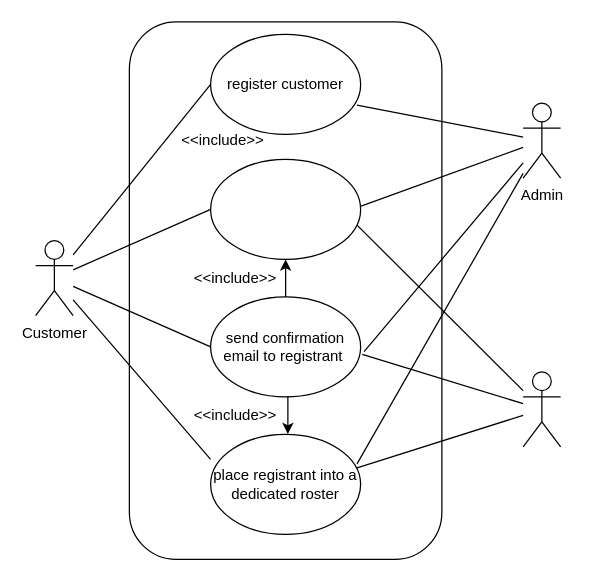
Image size: 591x581. Some labels were removed from this diagram. Here are the shapes that lost their labels. From the top down, the box of each, then its label:
(209, 158, 361, 259): read registrant information
(522, 371, 561, 447): Program
